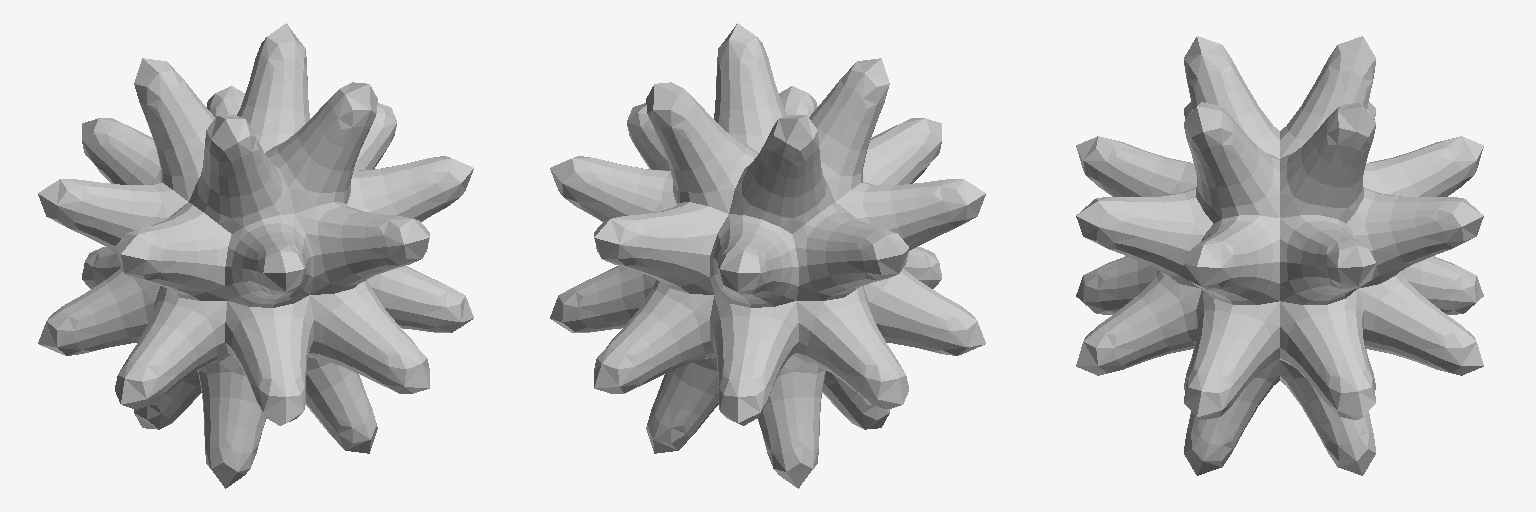
3 renders of one model, left to right at view 1: azimuth 30°, elevation 25°; view 2: azimuth 150°, elevation 25°; view 3: azimuth 270°, elevation 25°, orthographic.
Visible parts, largest first — view 1: cube1; view 2: cube1; view 3: cube1.
Boxes of the visible parts, box(x1,y1,x2,y2) form: cube1: box(38, 23, 473, 488); cube1: box(550, 23, 985, 488); cube1: box(1076, 36, 1483, 475).
Size of the model in its own units: 6.19 by 6.19 by 6.19.